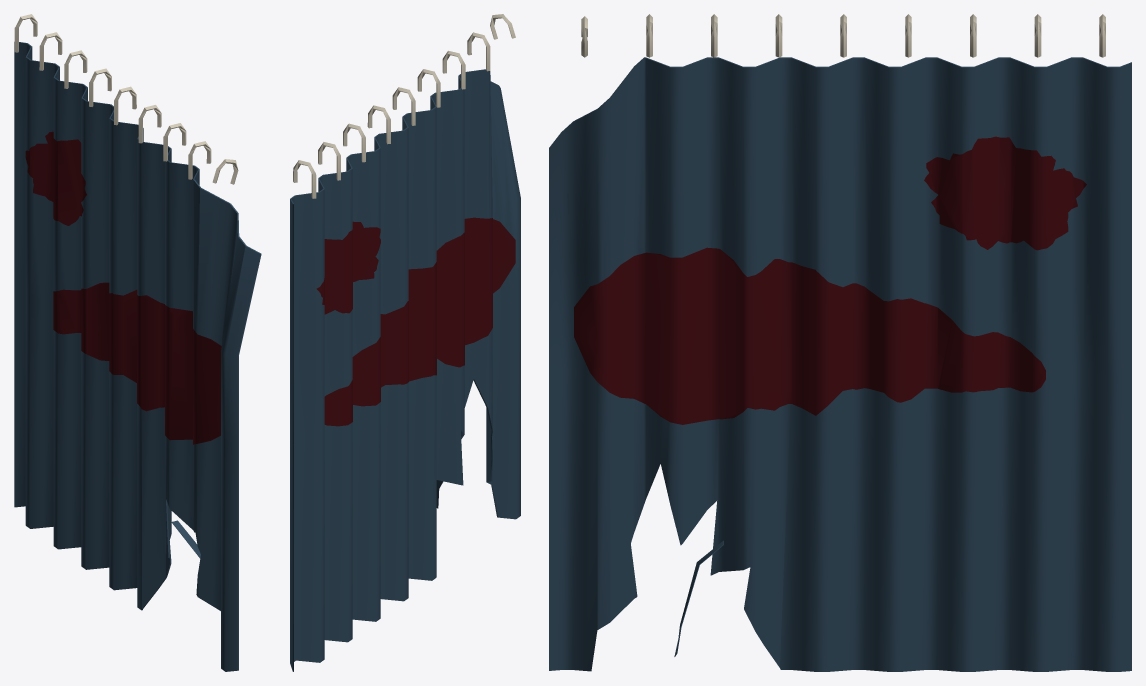
Rendered from curtain_panel.glb.
3 renders of one model, left to right at view 1: azimuth 30°, elevation 25°; view 2: azimuth 150°, elevation 25°; view 3: azimuth 270°, elevation 25°, orthographic. The views are drawn at different scales.
Parts seen in each view (by area): view 1: Outbreak_Recovery_Curtain_PartClosed_Left_Static; view 2: Outbreak_Recovery_Curtain_PartClosed_Left_Static; view 3: Outbreak_Recovery_Curtain_PartClosed_Left_Static.
Part boxes in pixels (<box>): Outbreak_Recovery_Curtain_PartClosed_Left_Static: <box>14,14,261,671</box>; Outbreak_Recovery_Curtain_PartClosed_Left_Static: <box>290,14,520,671</box>; Outbreak_Recovery_Curtain_PartClosed_Left_Static: <box>549,14,1131,671</box>.
Size of the model in its own units: 0.2187 by 2.18 by 1.75.
